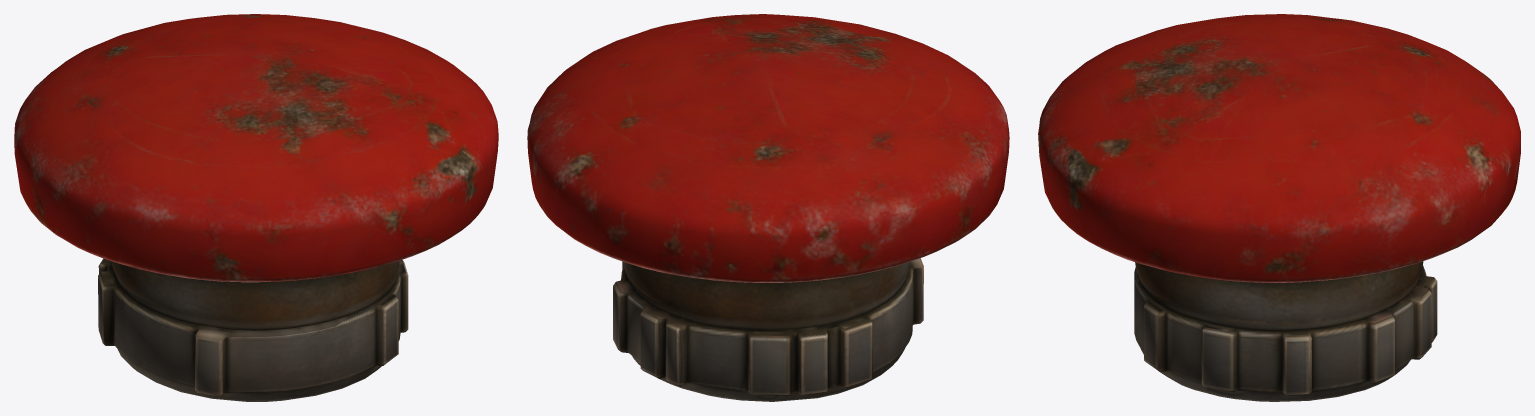
Rendered from button.glb.
3 views of the same model, side by side, from view 1: azimuth 30°, elevation 25°; view 2: azimuth 150°, elevation 25°; view 3: azimuth 270°, elevation 25° (orthographic).
Parts seen in each view (by area): view 1: mesh_rep_0_ori_repair; view 2: mesh_rep_0_ori_repair; view 3: mesh_rep_0_ori_repair.
Boxes of the visible parts, x1,y1,x2,y2 form: mesh_rep_0_ori_repair: (14,14,498,401); mesh_rep_0_ori_repair: (527,14,1009,401); mesh_rep_0_ori_repair: (1038,14,1520,401).
Size of the model in its own units: 1.13 by 0.749 by 1.13.
Materials: 1 (1 with a texture image).
